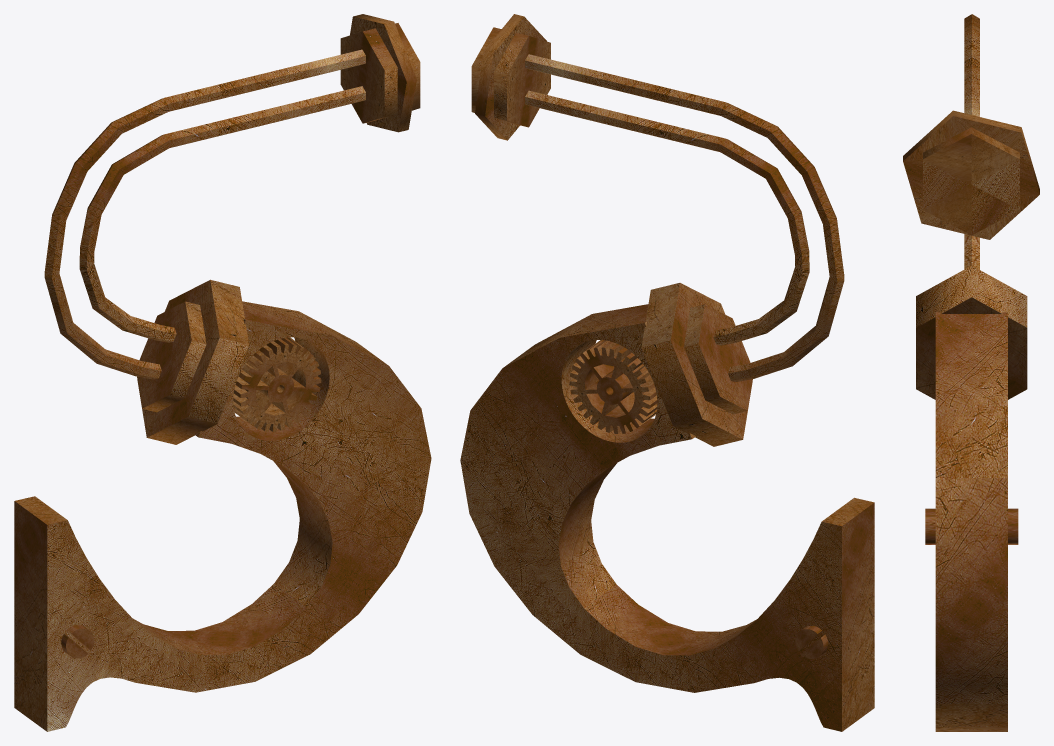
The picture shows the model from 3 angles, left to right: view 1: azimuth 30°, elevation 25°; view 2: azimuth 150°, elevation 25°; view 3: azimuth 270°, elevation 25°; orthographic projection. The views are drawn at different scales.
Parts seen in each view (by area): view 1: S, Line014, Tube_389, Line013, Cogwheel_263, Tube_388, Tube_414, Tube_391, Screw_838; view 2: S, Line014, Tube_389, Line013, Cogwheel_263, Tube_388, Tube_414, Tube_391, Screw_838; view 3: S, Tube_414, Tube_389, Tube_391, Line014, Screw_838, Line013.
Boxes of the visible parts, x1,y1,x2,y2 form: S: (14,301,431,731); Line014: (44,49,365,379); Tube_389: (137,279,248,444); Line013: (79,86,365,342); Cogwheel_263: (233,337,321,431); Tube_388: (137,301,206,412); Tube_414: (340,23,420,123); Tube_391: (350,14,416,132); Screw_838: (61,625,94,658); S: (460,304,874,731); Line014: (525,54,844,381); Tube_389: (641,283,752,446); Line013: (525,90,809,345); Cogwheel_263: (569,340,657,433); Tube_388: (684,304,752,414); Tube_414: (471,27,550,127); Tube_391: (475,14,546,140); Screw_838: (795,625,828,658); S: (935,312,1007,731); Tube_414: (923,127,1019,235); Tube_389: (916,265,1027,399); Tube_391: (903,110,1039,239); Line014: (964,14,979,116); Screw_838: (925,508,1018,544); Line013: (964,234,979,269).
Bounding box in the file's own units: 67.59 × 104 × 18.96.
Materials: 1 (1 with a texture image).
